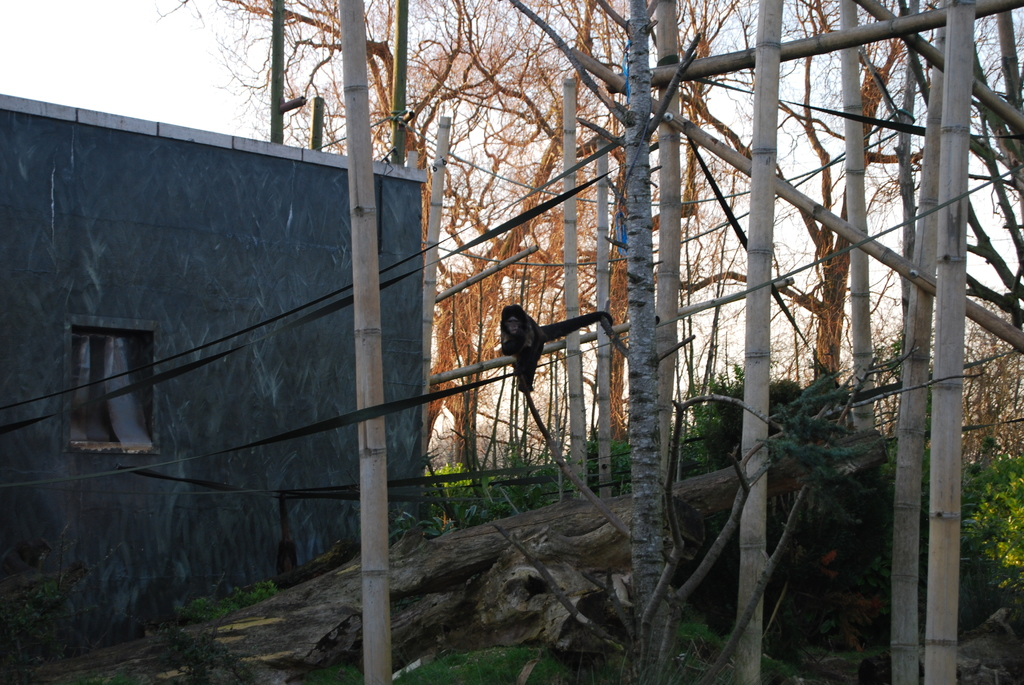Tree: (154, 0, 1023, 677)
